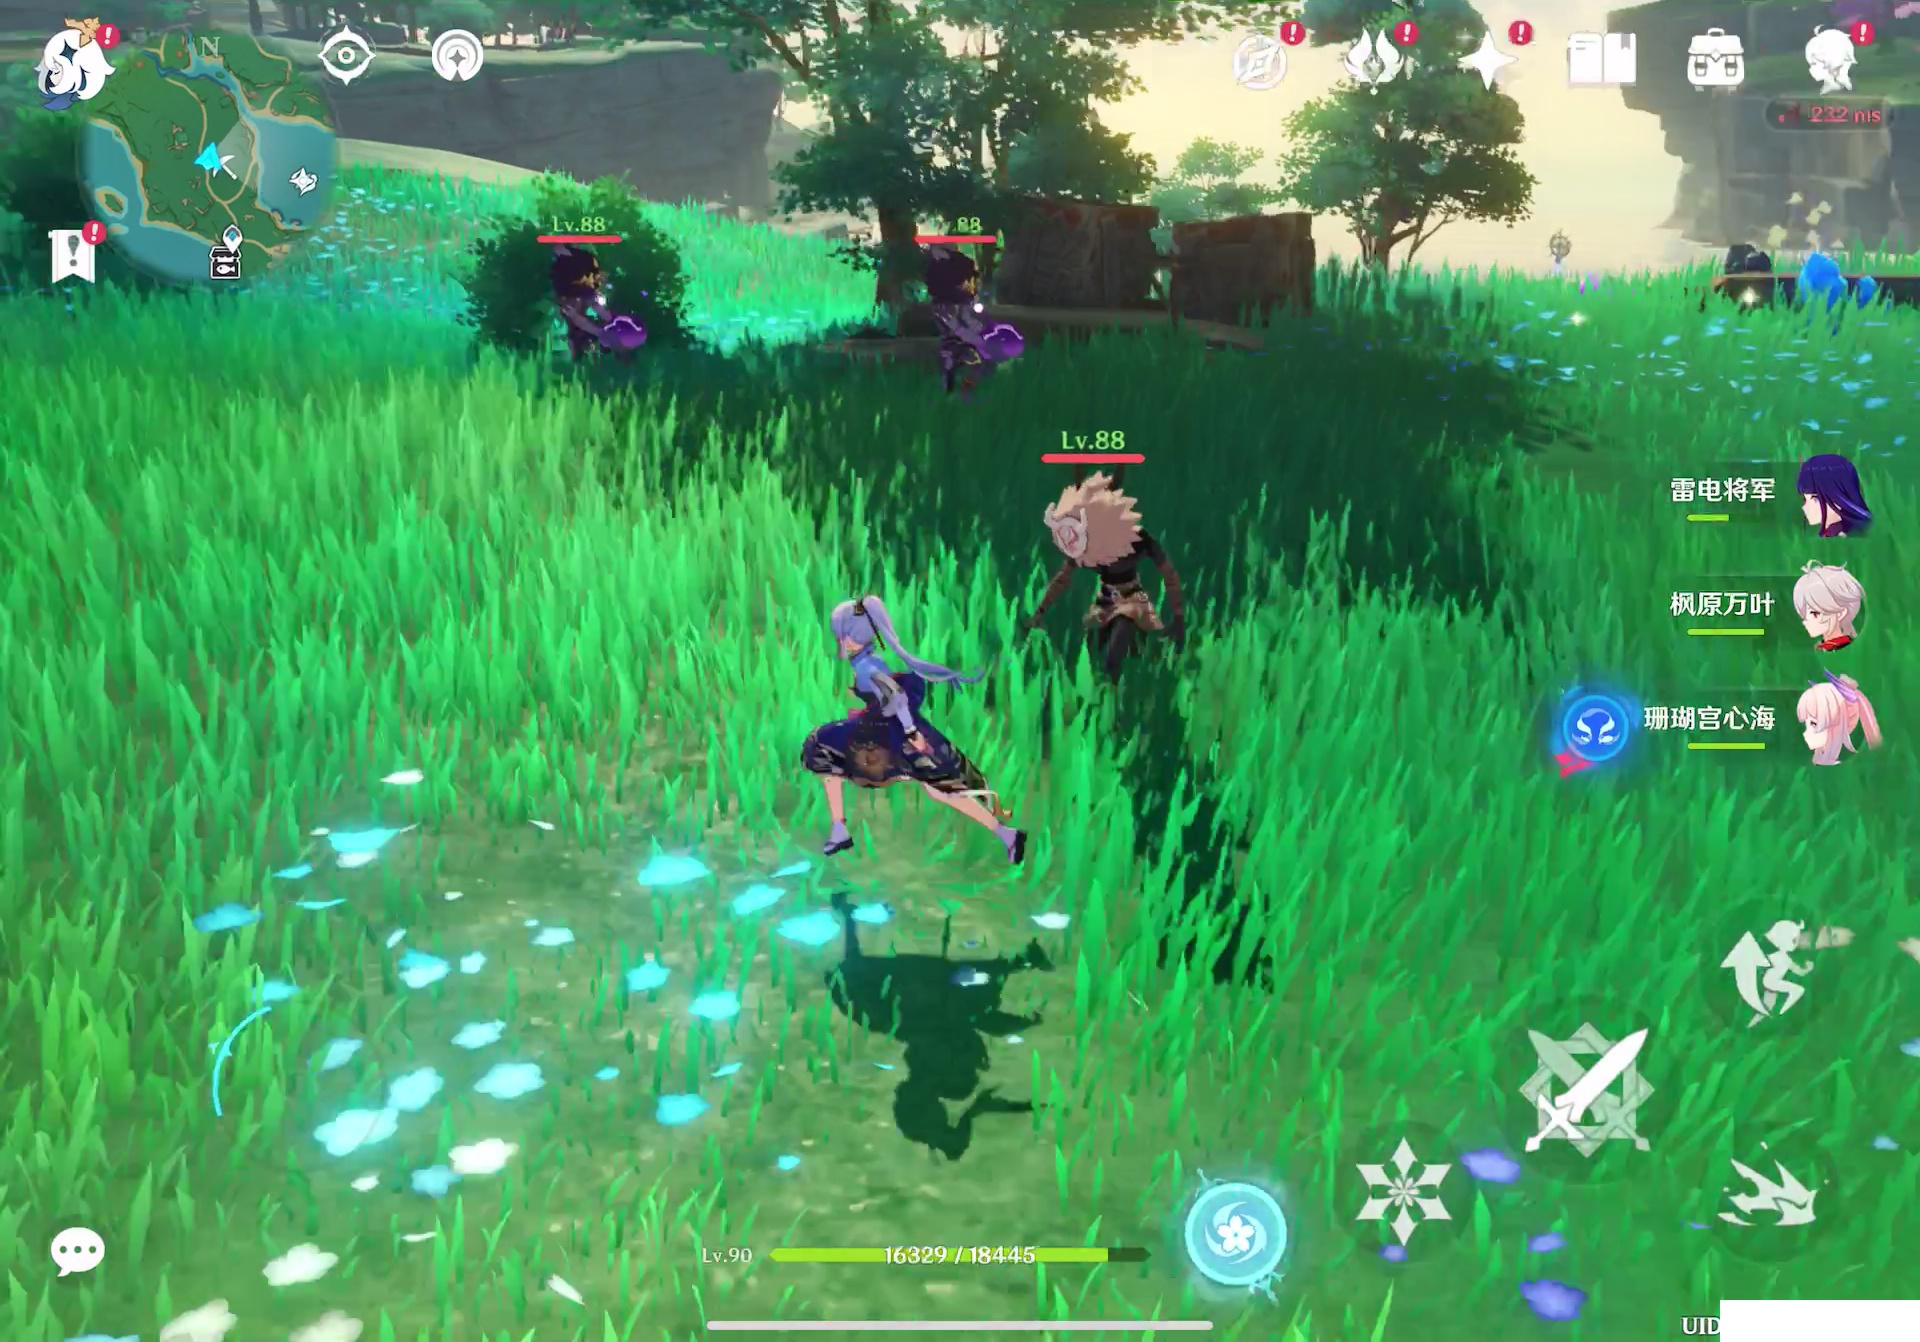丘丘人: (1029, 470, 1215, 686), (912, 263, 1029, 398), (537, 247, 668, 365)
神里绫龟: (823, 602, 1021, 897)
